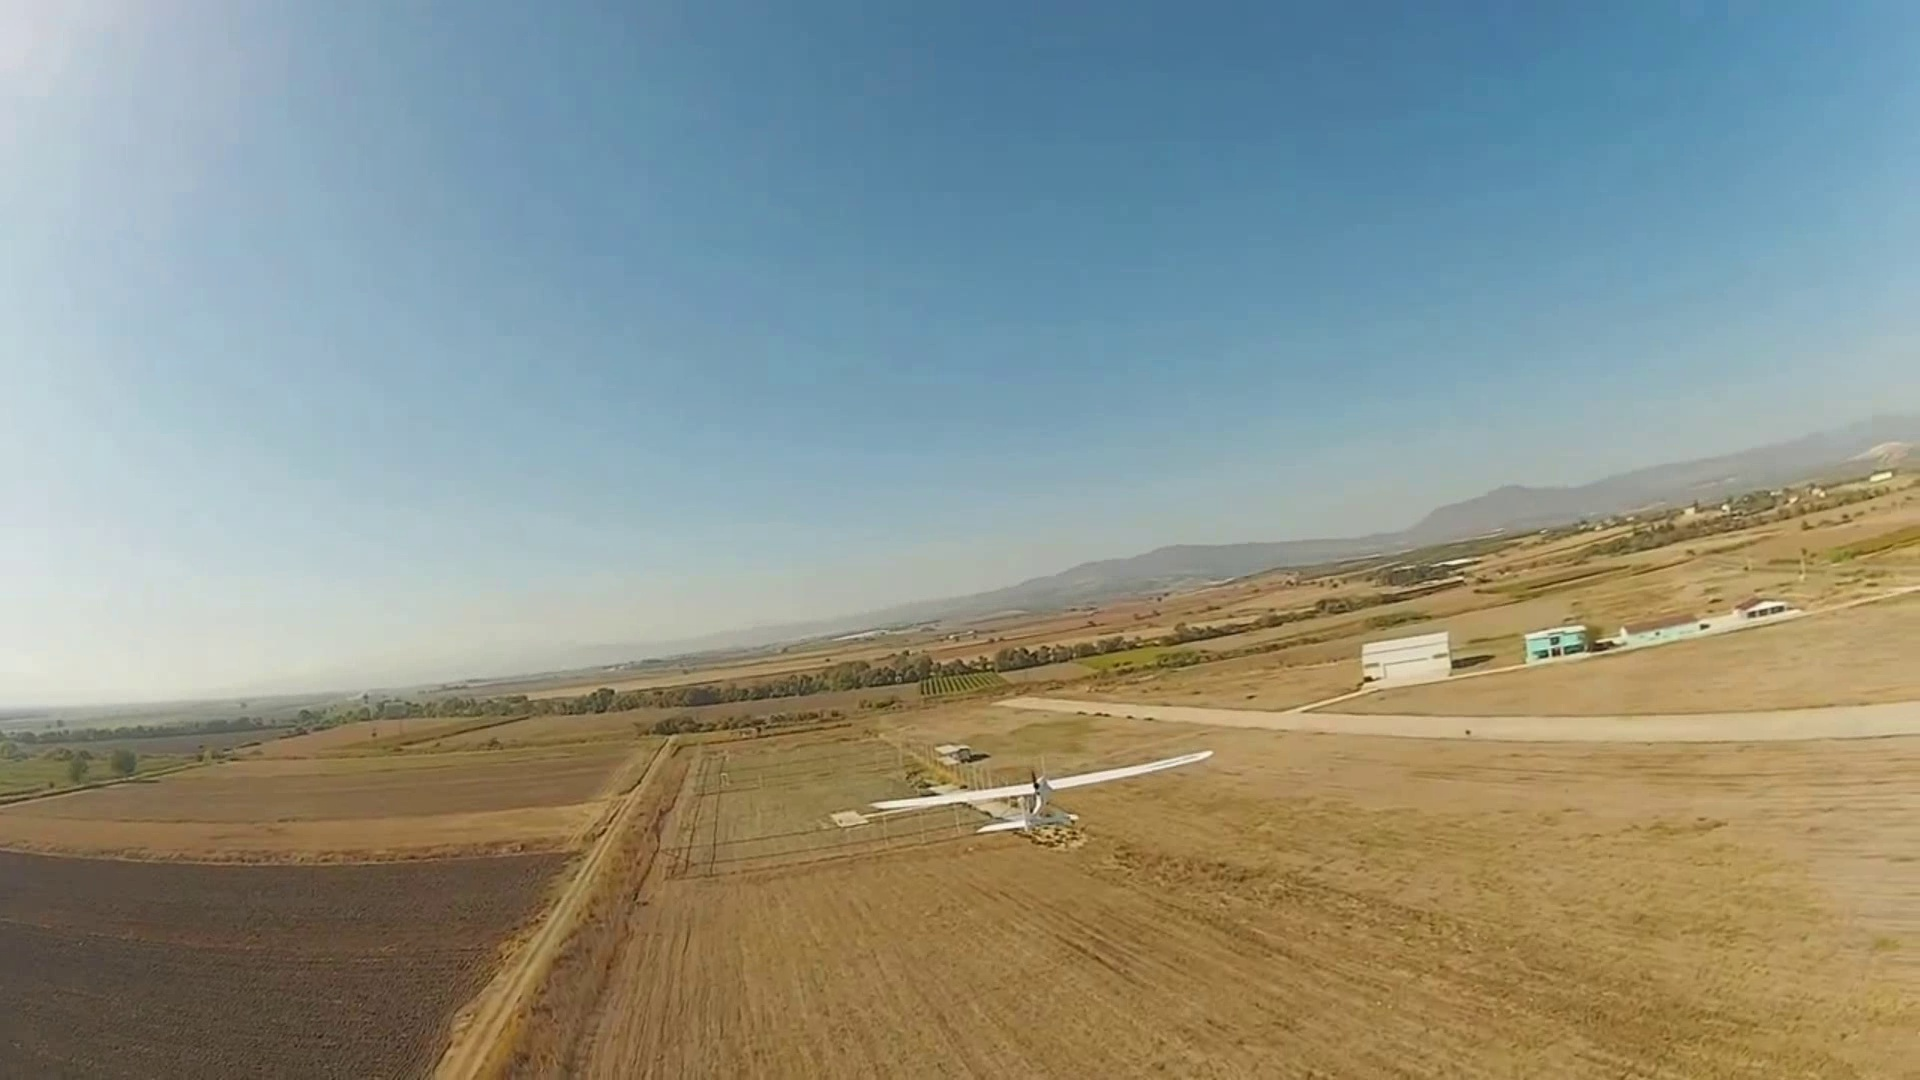airplane: (851, 745, 1216, 844)
